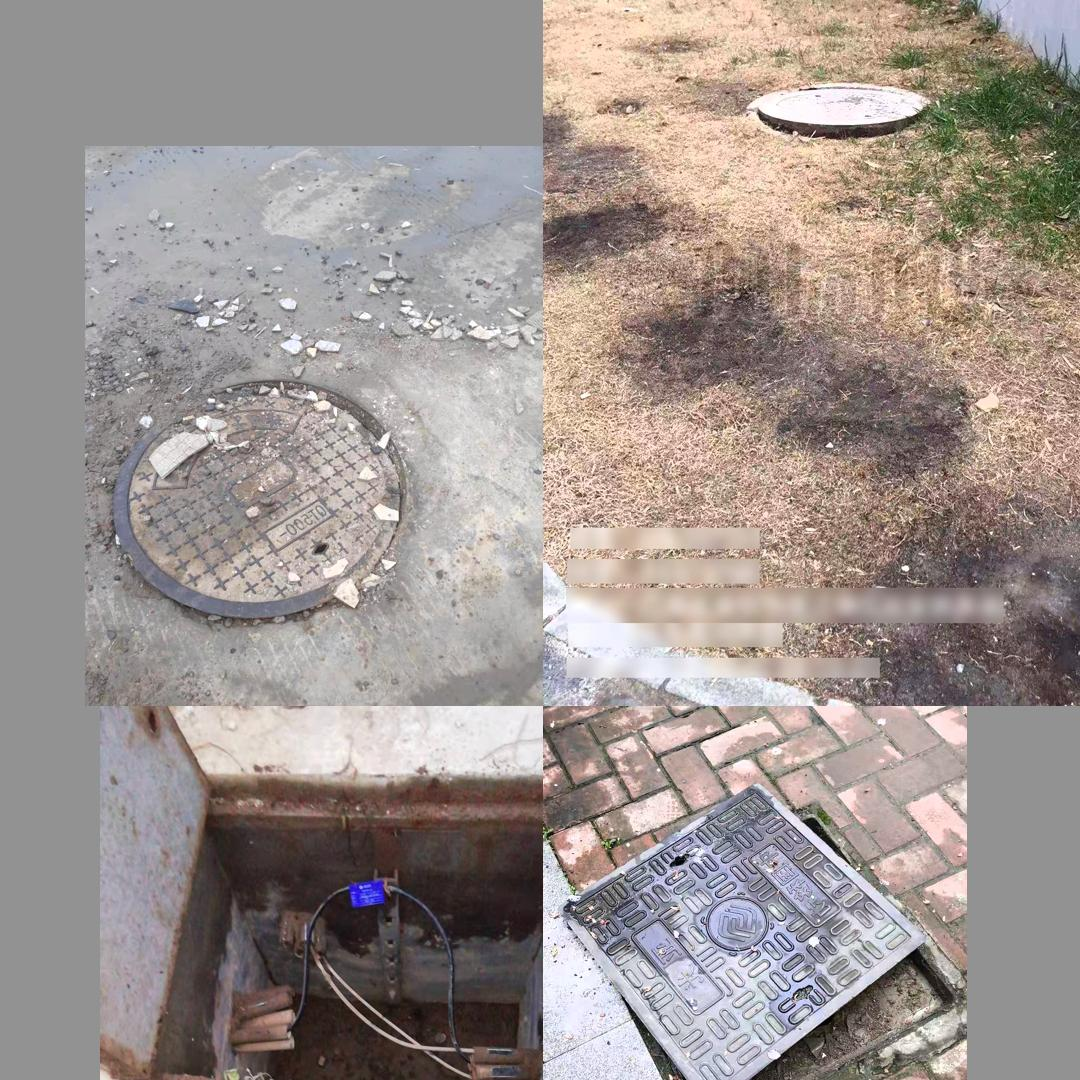uncovered: (103, 711, 543, 1080), (561, 781, 964, 1080), (113, 380, 406, 618), (754, 83, 932, 143)
